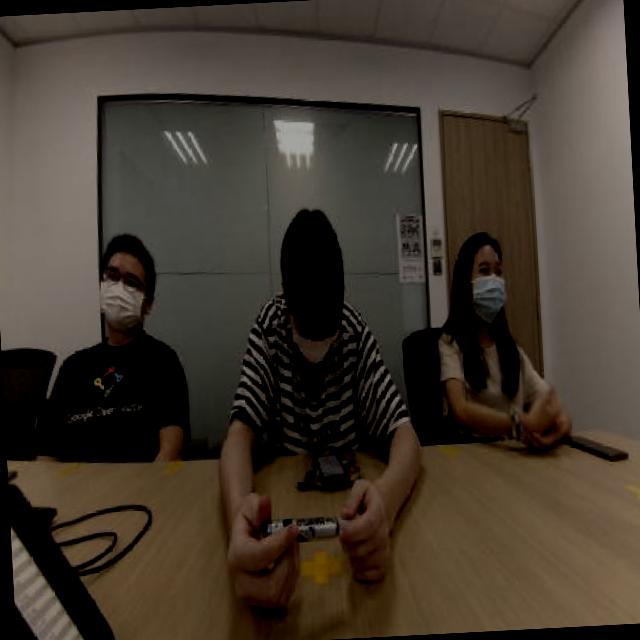Person: (196, 172, 402, 464), (22, 178, 196, 467), (432, 206, 564, 443)
